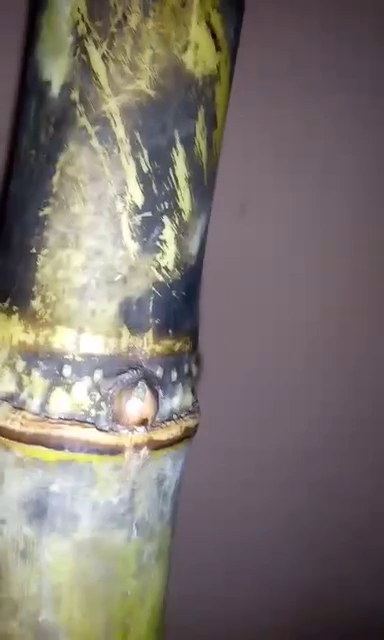cane eye: (112, 375, 160, 430)
